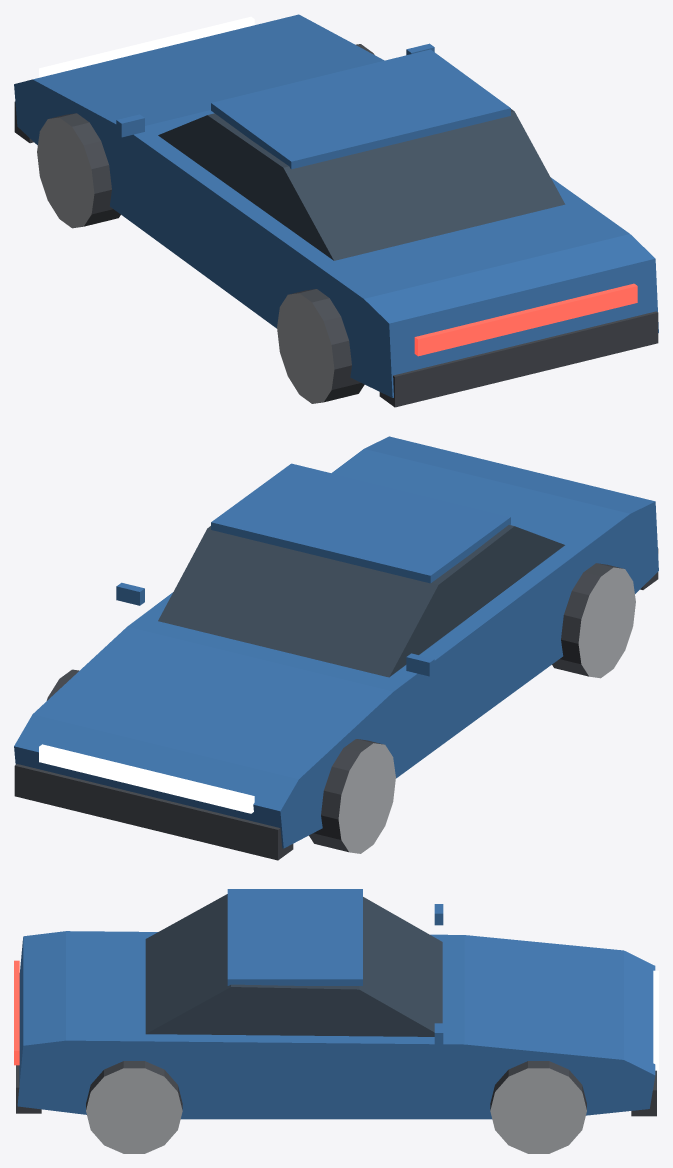
Rendered from car_blue.glb.
3 views of the same model, one above another, from view 1: azimuth 30°, elevation 25°; view 2: azimuth 150°, elevation 25°; view 3: azimuth 270°, elevation 25° (orthographic). The views are drawn at different scales.
Parts seen in each view (by area): view 1: body, cabin, roof, wheel (×2), bumperR, taillights, headlights; view 2: body, cabin, roof, wheel (×2), bumperF, headlights; view 3: body, cabin, wheel (×2), roof, taillights, headlights.
Boxes of the visible parts, x1,y1,x2,y2 form: body: [14, 14, 658, 397]; cabin: [158, 109, 565, 260]; roof: [211, 49, 510, 169]; wheel (×2): [37, 113, 364, 403]; bumperR: [379, 311, 658, 407]; taillights: [414, 283, 637, 356]; headlights: [39, 16, 254, 77]; body: [14, 436, 658, 848]; cabin: [158, 525, 564, 677]; roof: [211, 463, 510, 583]; wheel (×2): [309, 563, 635, 853]; bumperF: [14, 764, 293, 860]; headlights: [39, 744, 254, 813]; body: [17, 931, 655, 1119]; cabin: [145, 894, 442, 1036]; wheel (×2): [86, 1061, 586, 1153]; roof: [227, 889, 362, 985]; taillights: [14, 960, 19, 1065]; headlights: [653, 970, 658, 1070].
Bounding box in the file's own units: 2.14 × 1.22 × 4.53.
